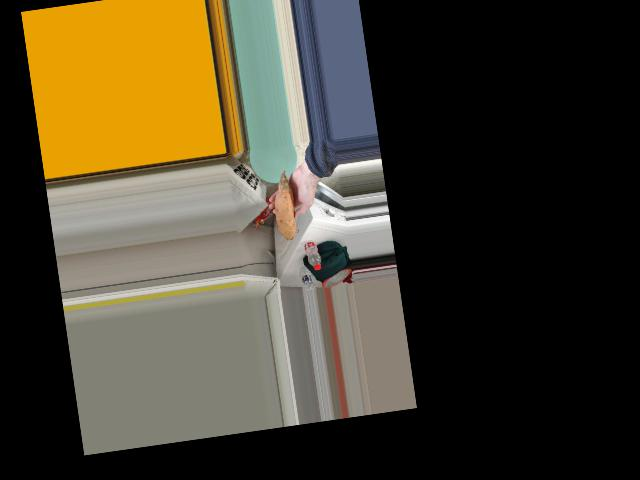sweet_potato: (272, 183, 304, 247)
